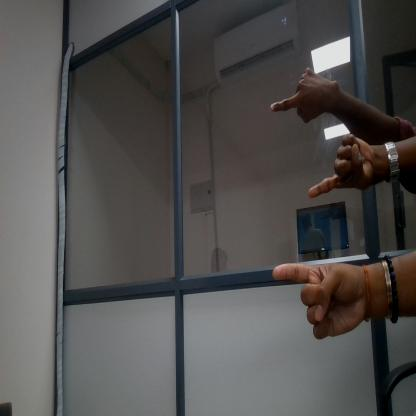Right: (272, 254, 363, 348), (307, 133, 374, 201), (269, 66, 338, 129)
